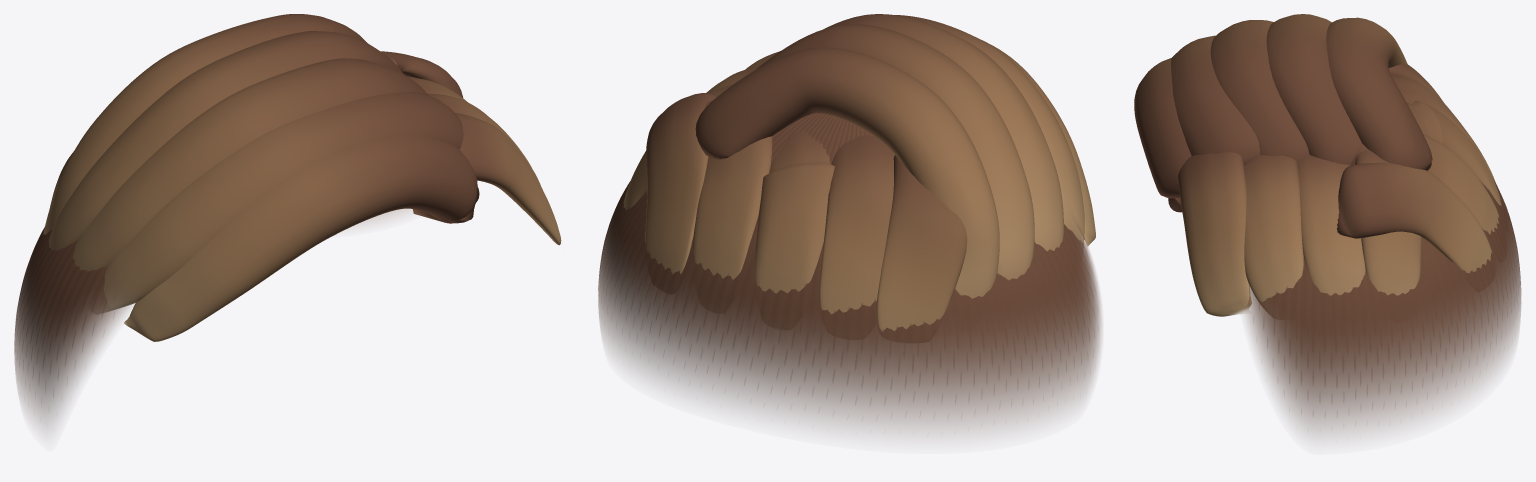
The model's file is Masculine-taper-ears257-hair-ombre.glb.
The picture shows the model from 3 angles, left to right: view 1: azimuth 30°, elevation 25°; view 2: azimuth 150°, elevation 25°; view 3: azimuth 270°, elevation 25°; orthographic projection. The views are drawn at different scales.
Visible parts, largest first — view 1: 226 hair / Hair252 / sculpted locks, 226 hair / Hair252 / gentle tonal variation, 226 hair / Hair257 / smooth side fade, 226 hair / Hair257 / directional fade marks; view 2: 226 hair / Hair252 / sculpted locks, 226 hair / Hair257 / smooth side fade, 226 hair / Hair252 / gentle tonal variation, 226 hair / Hair257 / directional fade marks; view 3: 226 hair / Hair252 / sculpted locks, 226 hair / Hair257 / smooth side fade, 226 hair / Hair252 / gentle tonal variation, 226 hair / Hair257 / directional fade marks.
Part boxes in pixels (x1,y1,x2,y2): 226 hair / Hair252 / sculpted locks: (43,14,540,313); 226 hair / Hair252 / gentle tonal variation: (124,113,561,341); 226 hair / Hair257 / smooth side fade: (14,209,411,428); 226 hair / Hair257 / directional fade marks: (16,229,106,375); 226 hair / Hair252 / sculpted locks: (623,14,1084,331); 226 hair / Hair257 / smooth side fade: (598,113,1101,433); 226 hair / Hair252 / gentle tonal variation: (745,40,1095,314); 226 hair / Hair257 / directional fade marks: (604,183,1094,402); 226 hair / Hair252 / sculpted locks: (1171,14,1501,316); 226 hair / Hair257 / smooth side fade: (1244,102,1521,435); 226 hair / Hair252 / gentle tonal variation: (1134,58,1495,316); 226 hair / Hair257 / directional fade marks: (1259,189,1517,398).
Size of the model in its own units: 0.9723 by 0.6944 by 0.7439.
